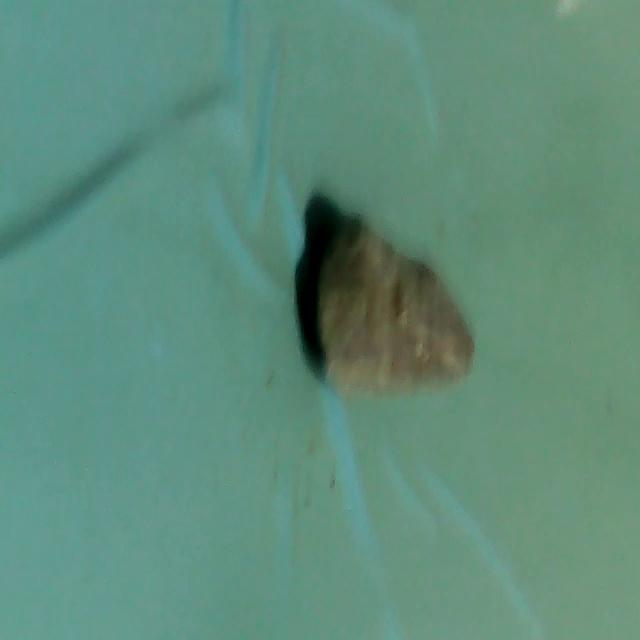rock: (310, 199, 486, 413)
